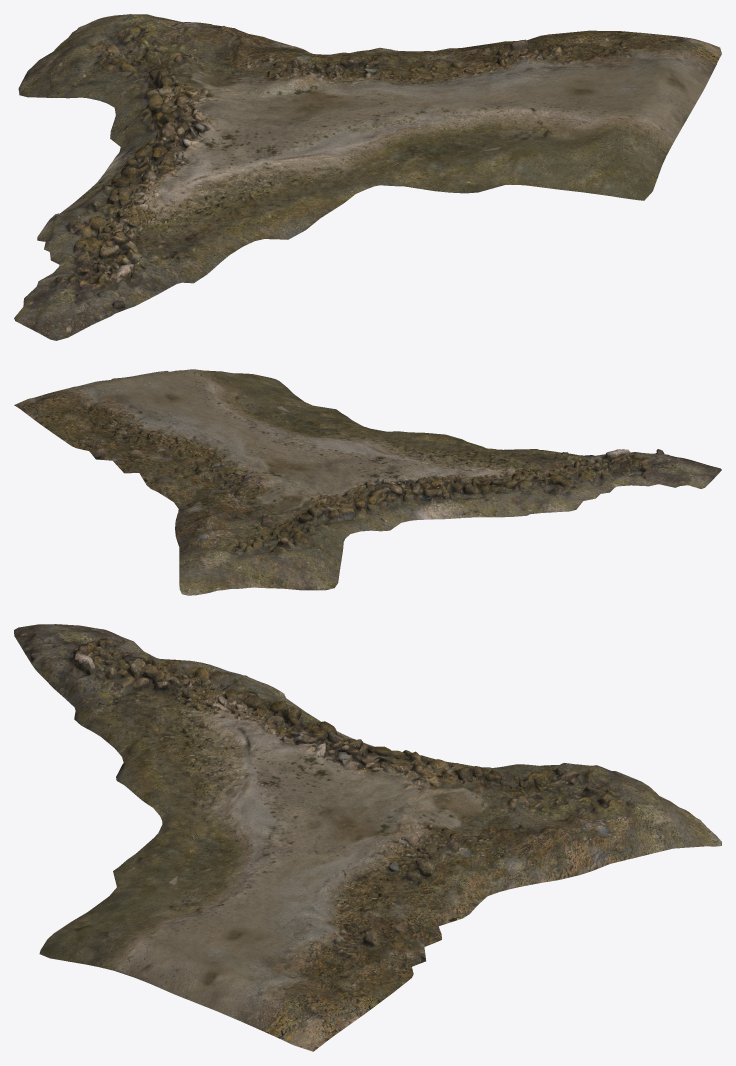
The model's file is coast-rocks-01-2k.glb.
3 views of the same model, one above another, from view 1: azimuth 30°, elevation 25°; view 2: azimuth 150°, elevation 25°; view 3: azimuth 270°, elevation 25° (orthographic). The views are drawn at different scales.
Visible parts, largest first — view 1: coast_rocks_01; view 2: coast_rocks_01; view 3: coast_rocks_01.
Boxes of the visible parts, <box> form: coast_rocks_01: <box>14,14,721,340</box>; coast_rocks_01: <box>14,369,721,595</box>; coast_rocks_01: <box>14,624,721,1051</box>.
Size of the model in its own units: 59.49 by 3.29 by 42.49.
1 material, 1 textured.
